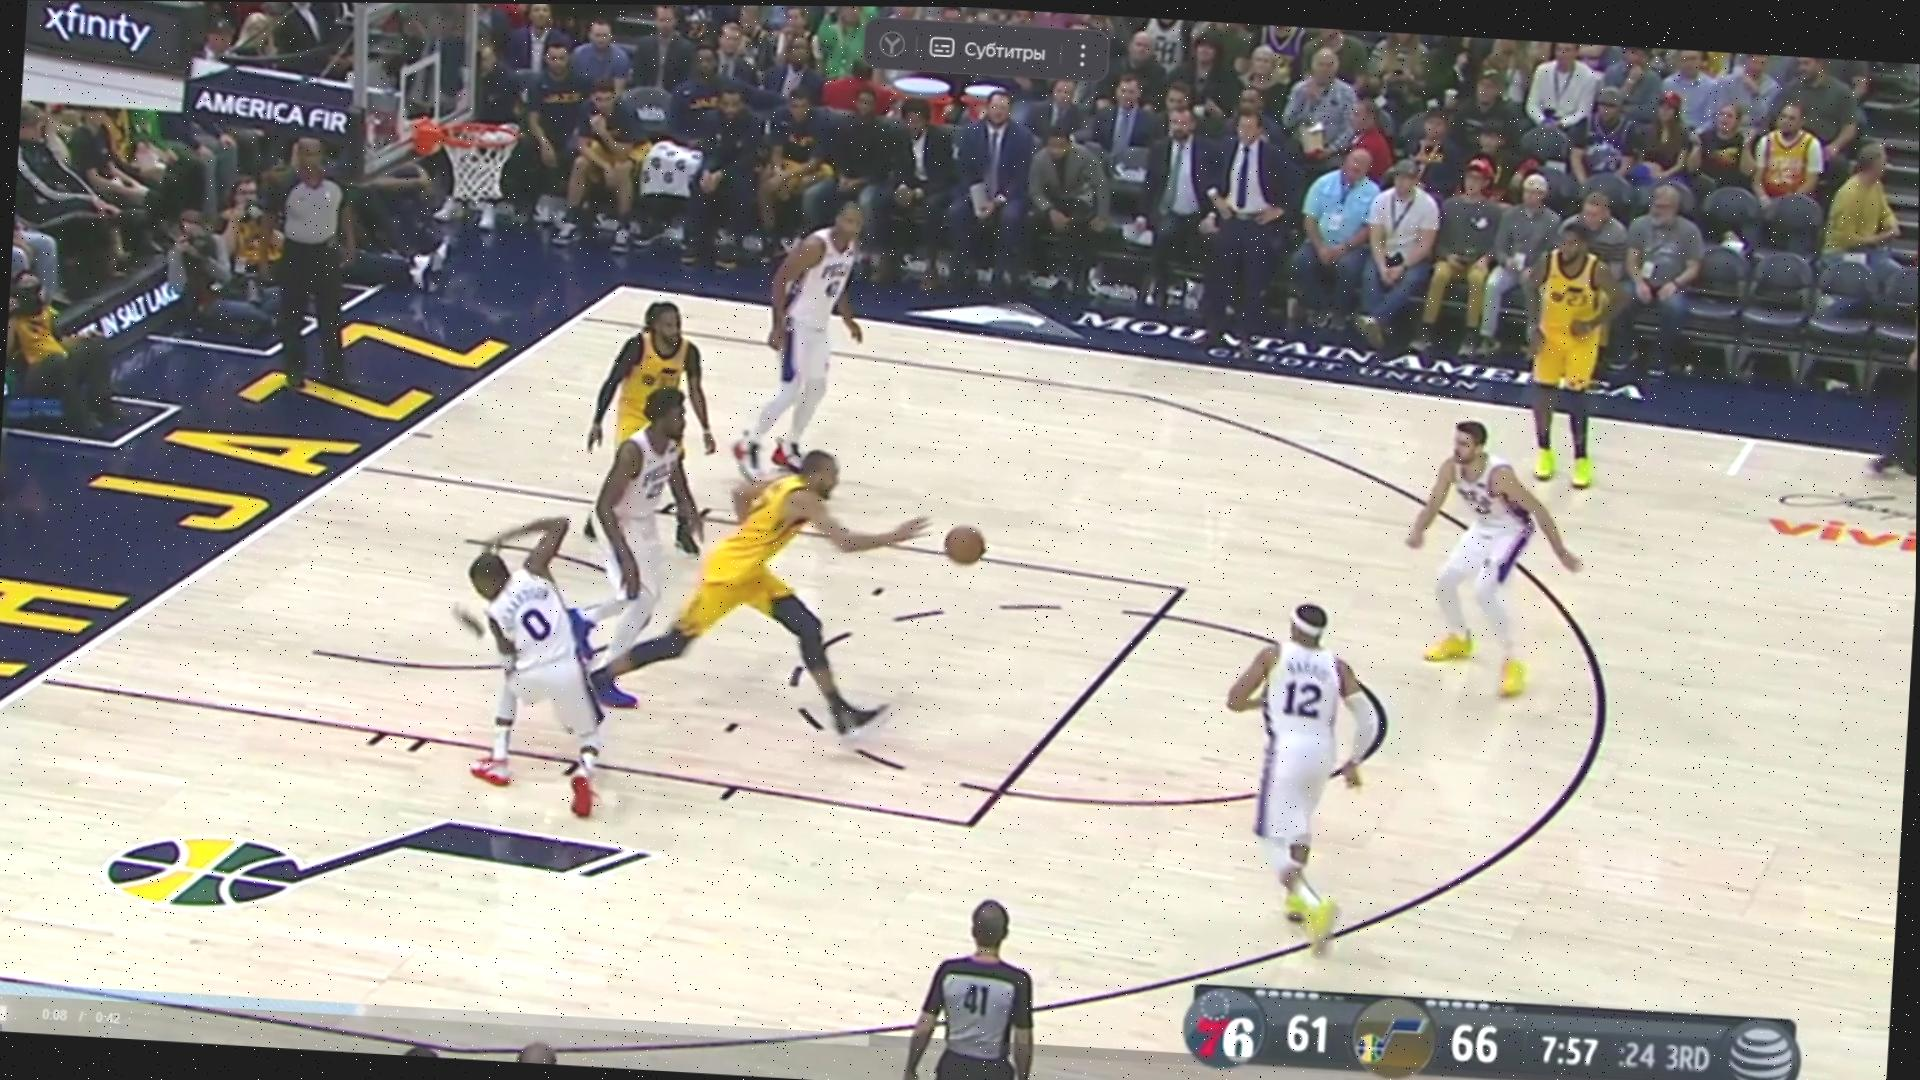foul: (409, 427, 955, 848)
